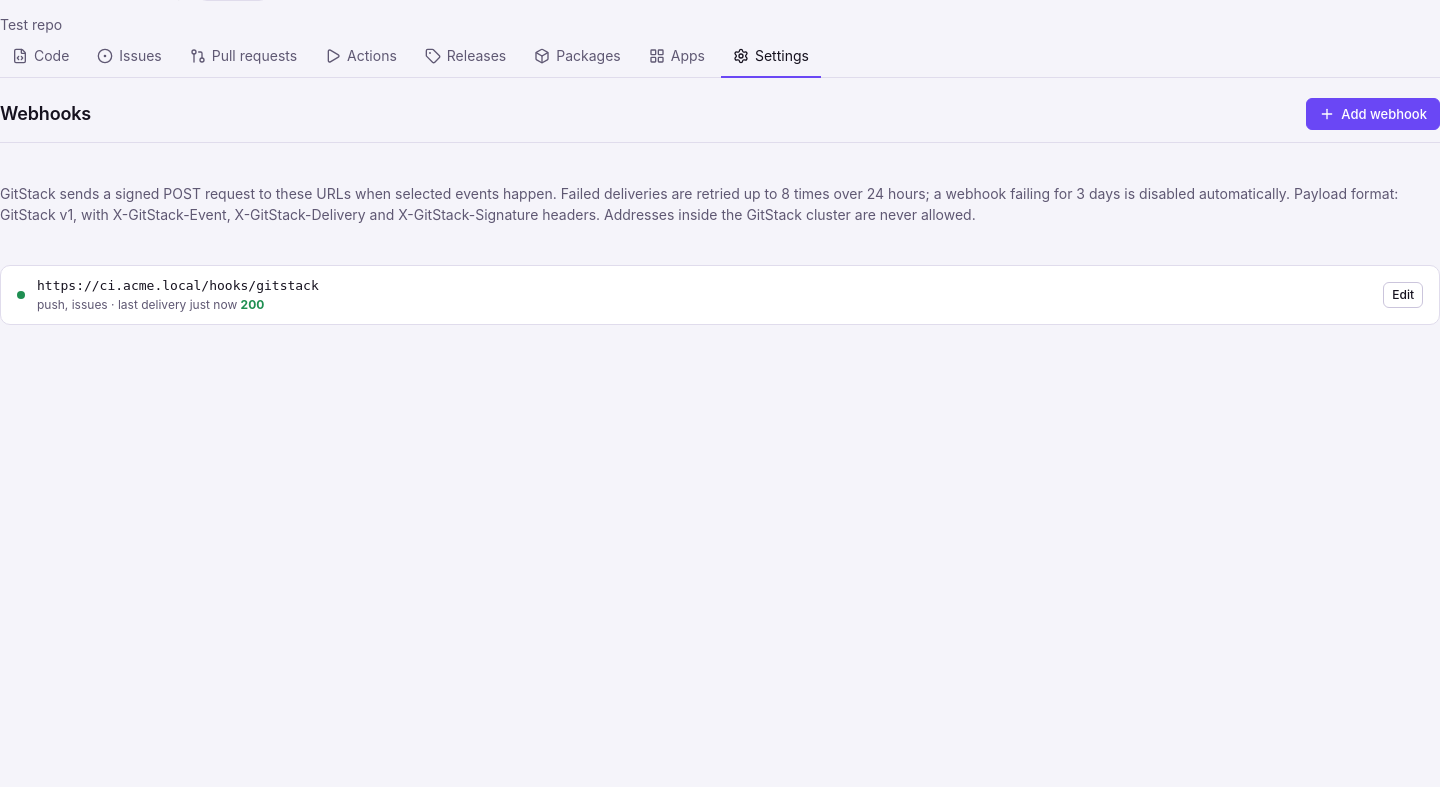
it: RepoWebhooksPage › mostra consegne recenti con Redeliver
Expected: the text "https://ci.acme.local/hooks/gitstack" is shown, left=37, top=278, right=319, bottom=293
Click the button "Edit".
click(1403, 295)  # box left=1383, top=282, right=1423, bottom=308
(page scrolled)
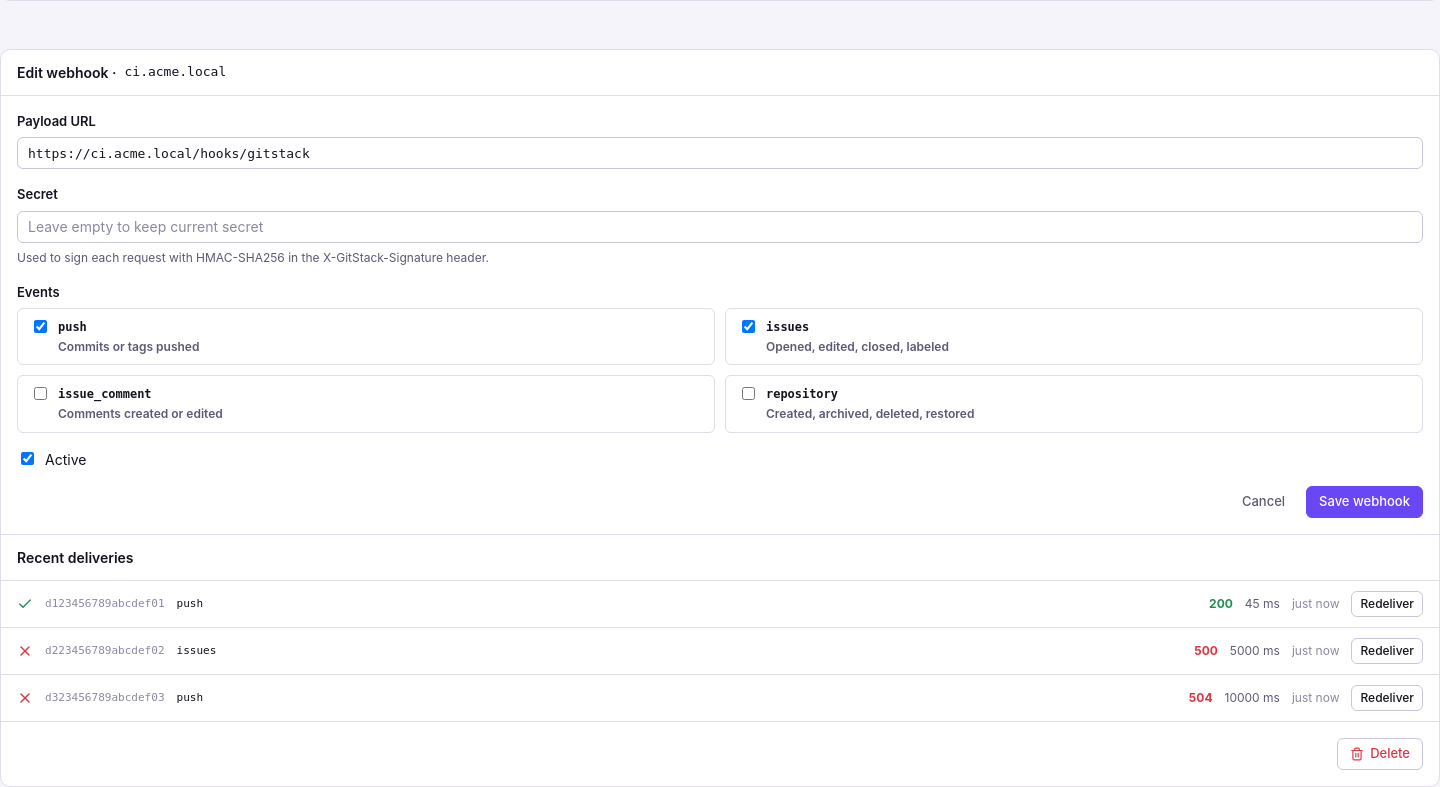
Now the text "Recent deliveries" is shown, box left=1, top=534, right=1439, bottom=581
Now the text "d123456789abcdef01" is shown, box left=45, top=596, right=164, bottom=612
Now the text "d223456789abcdef02" is shown, box left=45, top=643, right=164, bottom=659
